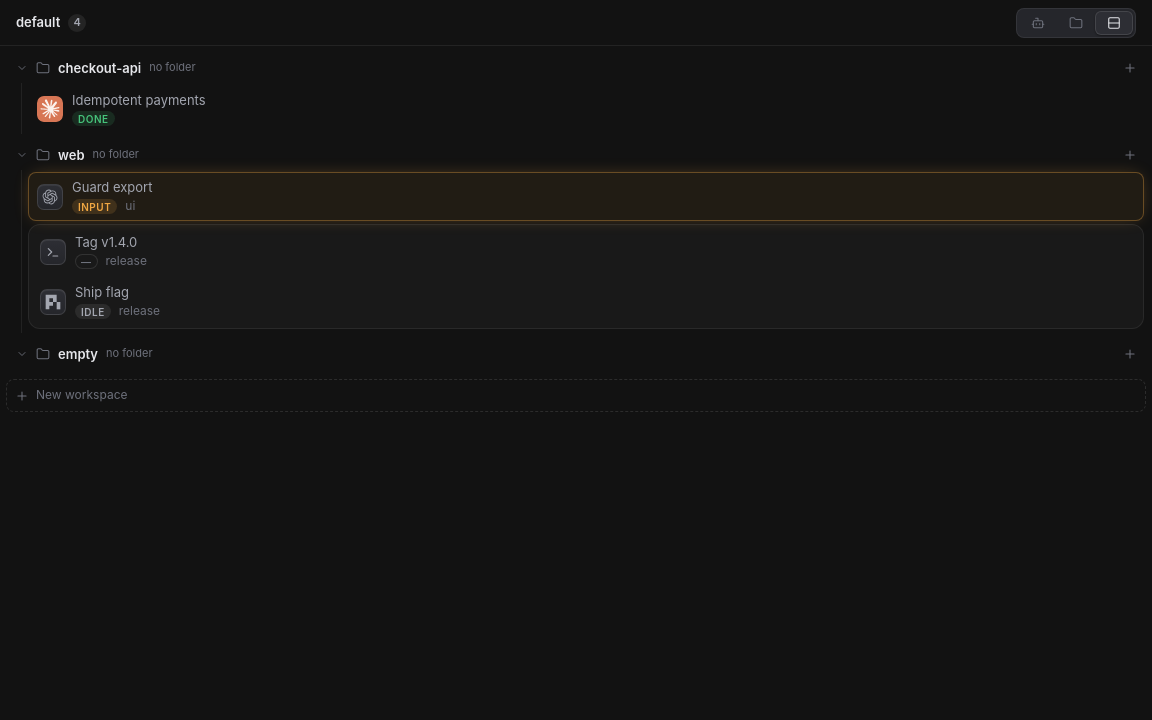
Test case: AgentList › opens the new workspace dialog from the session header
Click the button "New workspace".
click(82, 395)  # box [6,379,1146,412]
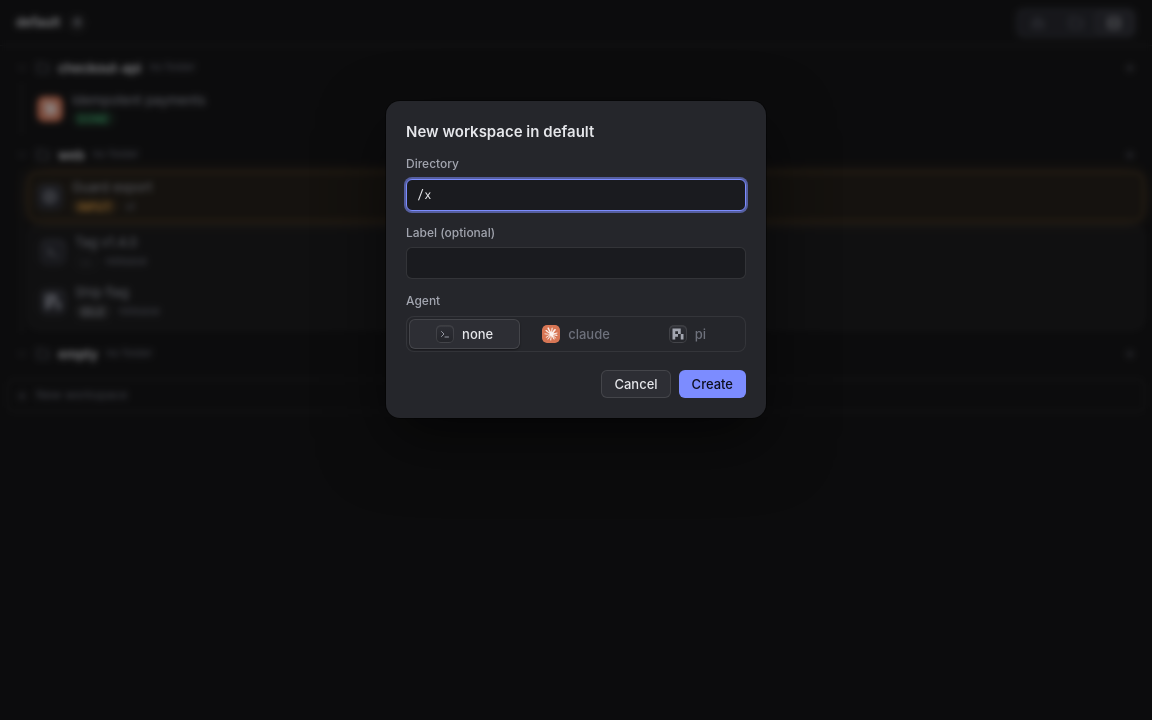
Expected: the dialog "New workspace" is shown, [386,101,766,418]
Expected: the heading "New workspace in default" is shown, [406,122,594,141]
